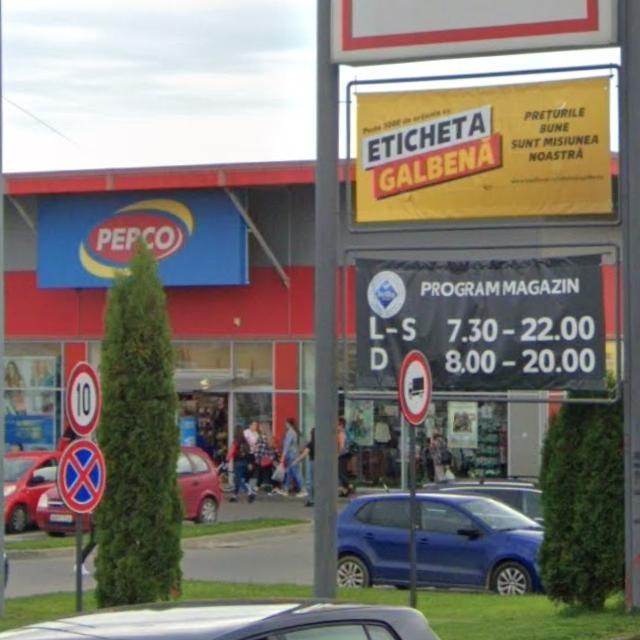forb_speed_over_10: (66, 362, 102, 438)
forb_waiting: (60, 438, 108, 513)
